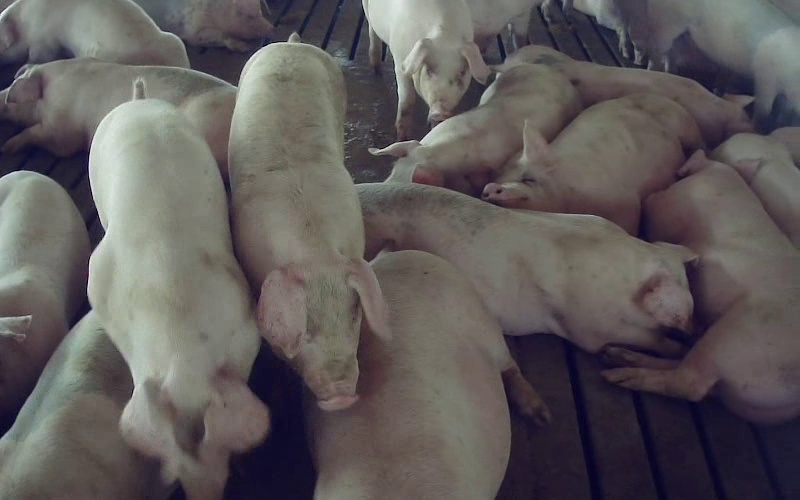pig: (88, 80, 268, 499), (229, 33, 389, 410), (307, 250, 548, 499), (356, 184, 694, 353), (603, 151, 799, 421), (0, 312, 167, 499), (482, 94, 702, 234), (370, 65, 581, 195), (493, 45, 752, 146), (0, 171, 89, 433), (648, 0, 799, 128), (363, 0, 489, 139)
